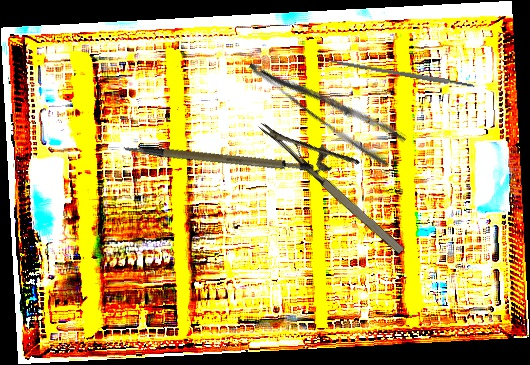Dressing Forceps: (246, 36, 408, 171)
Needle Holder: (257, 93, 426, 259)
Scalpel Handle: (122, 116, 312, 196), (327, 58, 477, 90)
